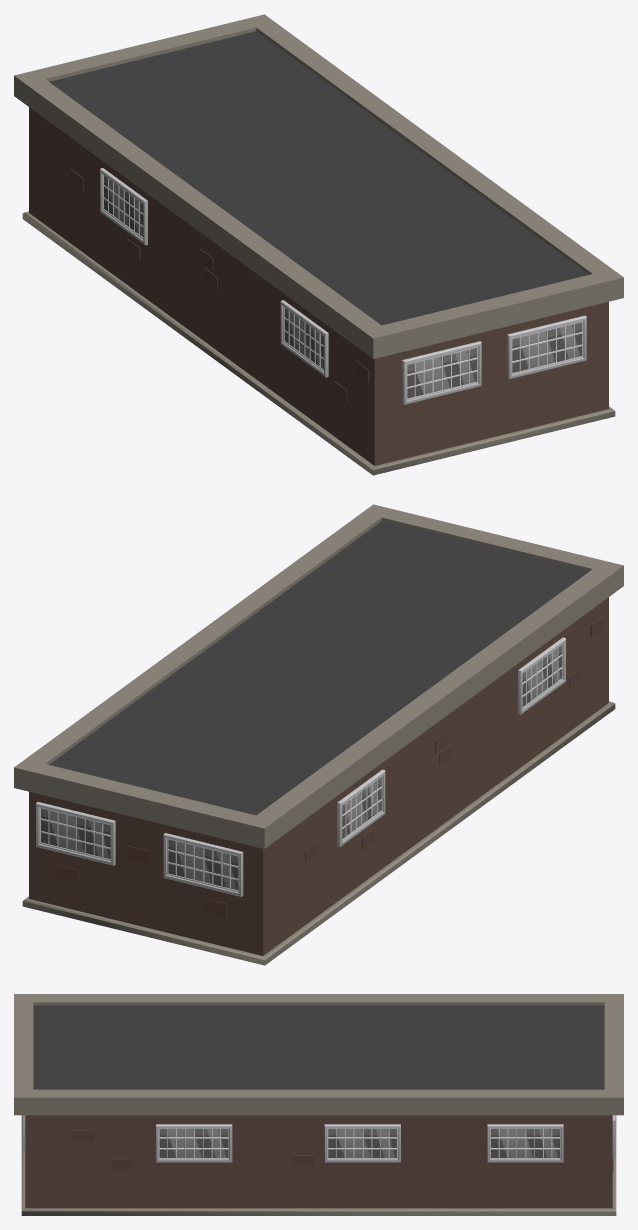
Rendered from Building_22_3_G.fbx.
3 renders of one model, top to bottom at view 1: azimuth 30°, elevation 25°; view 2: azimuth 150°, elevation 25°; view 3: azimuth 270°, elevation 25°, orthographic. The views are drawn at different scales.
Parts seen in each view (by area): view 1: Building_22_3_G; view 2: Building_22_3_G; view 3: Building_22_3_G.
Part boxes in pixels (bbox=[...]): Building_22_3_G: bbox=[14, 14, 623, 475]; Building_22_3_G: bbox=[14, 504, 623, 965]; Building_22_3_G: bbox=[14, 994, 623, 1215].
Bounding box in the file's own units: 1247 × 672 × 3099.
